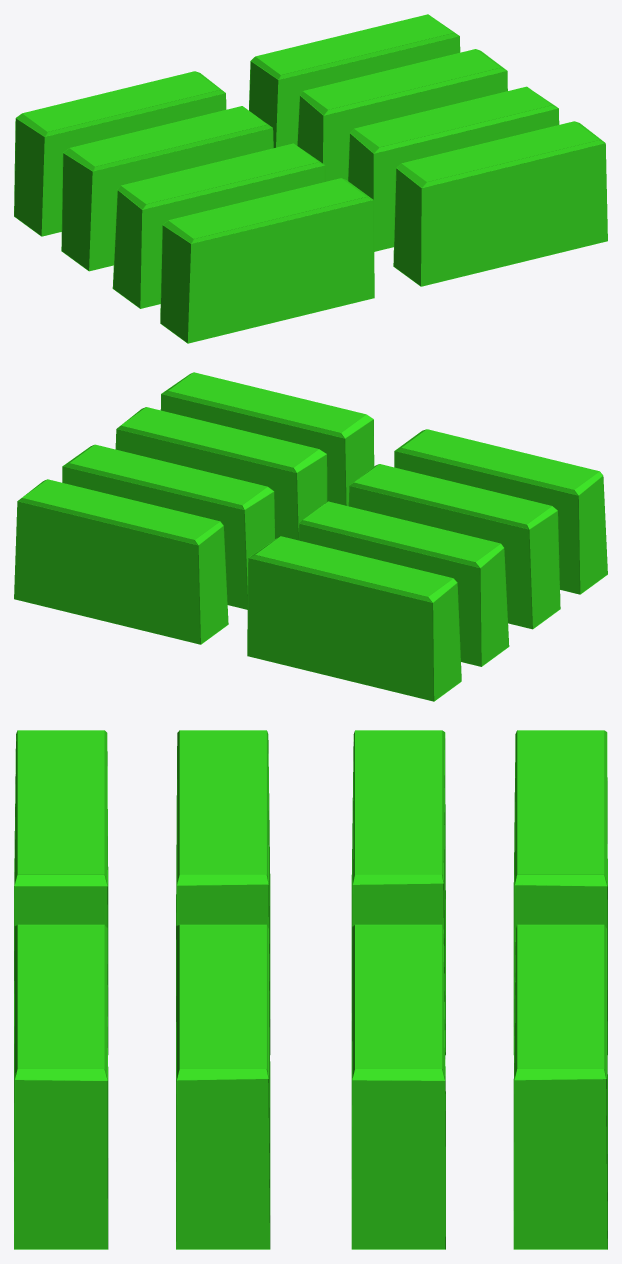
The model's file is Plant Set.fbx.
3 renders of one model, top to bottom at view 1: azimuth 30°, elevation 25°; view 2: azimuth 150°, elevation 25°; view 3: azimuth 270°, elevation 25°, orthographic. The views are drawn at different scales.
Parts seen in each view (by area): view 1: Plant2; view 2: Plant2; view 3: Plant2.
Part boxes in pixels (bbox=[...]): Plant2: bbox=[14, 14, 607, 343]; Plant2: bbox=[14, 372, 607, 701]; Plant2: bbox=[14, 730, 607, 1249].
Bounding box in the file's own units: 3494 × 813 × 2503.
